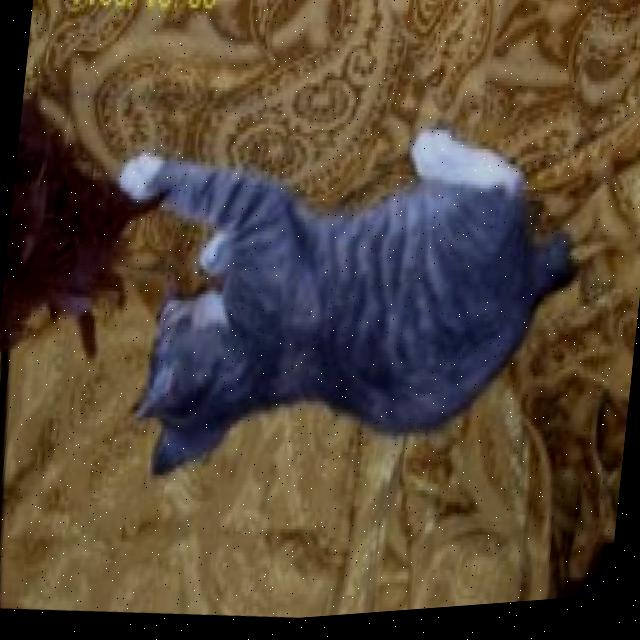American Bobtail: (83, 89, 596, 533)
